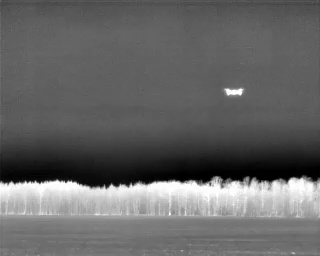DRONE: (220, 83, 247, 101)
